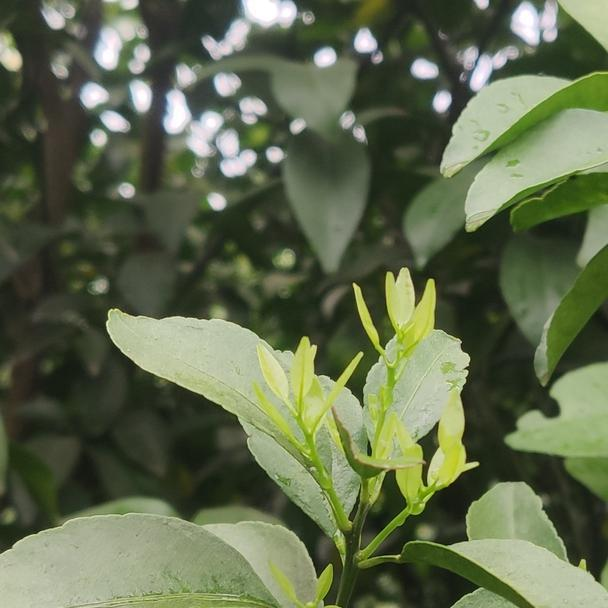shoot: (250, 345, 351, 491), (384, 411, 482, 545), (349, 281, 450, 385)
